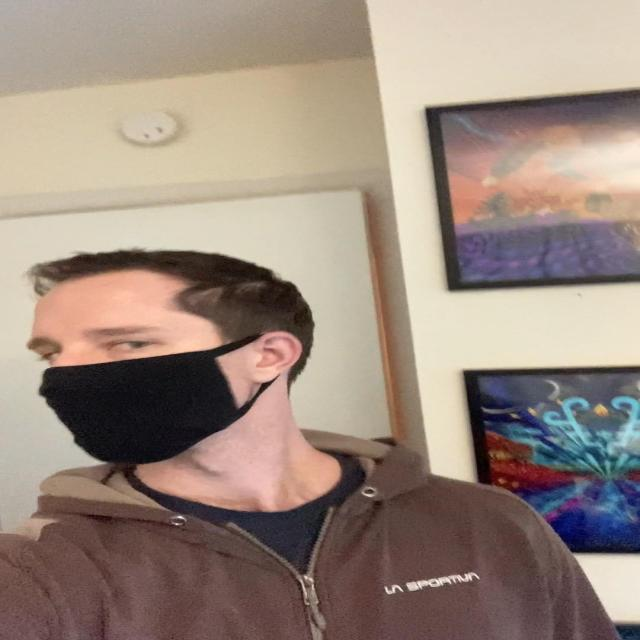no-helmet: (17, 252, 310, 480)
